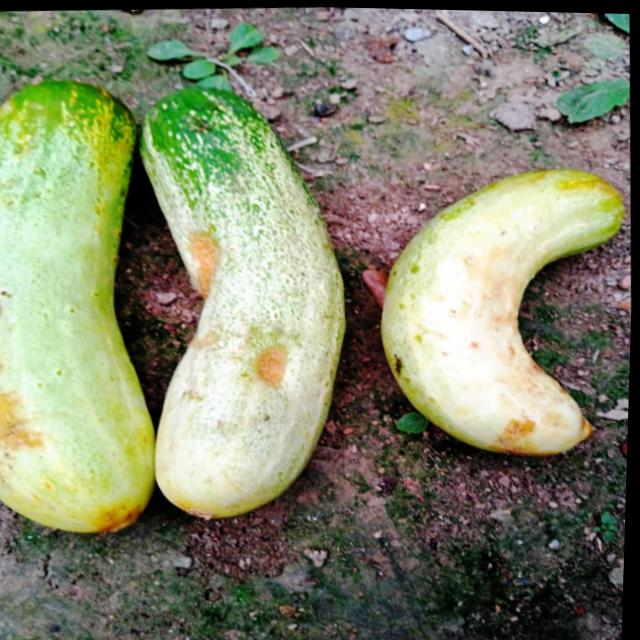Belly-Rot: (0, 291, 51, 475), (183, 224, 229, 356), (492, 408, 550, 455), (253, 335, 295, 393), (395, 348, 407, 377)
